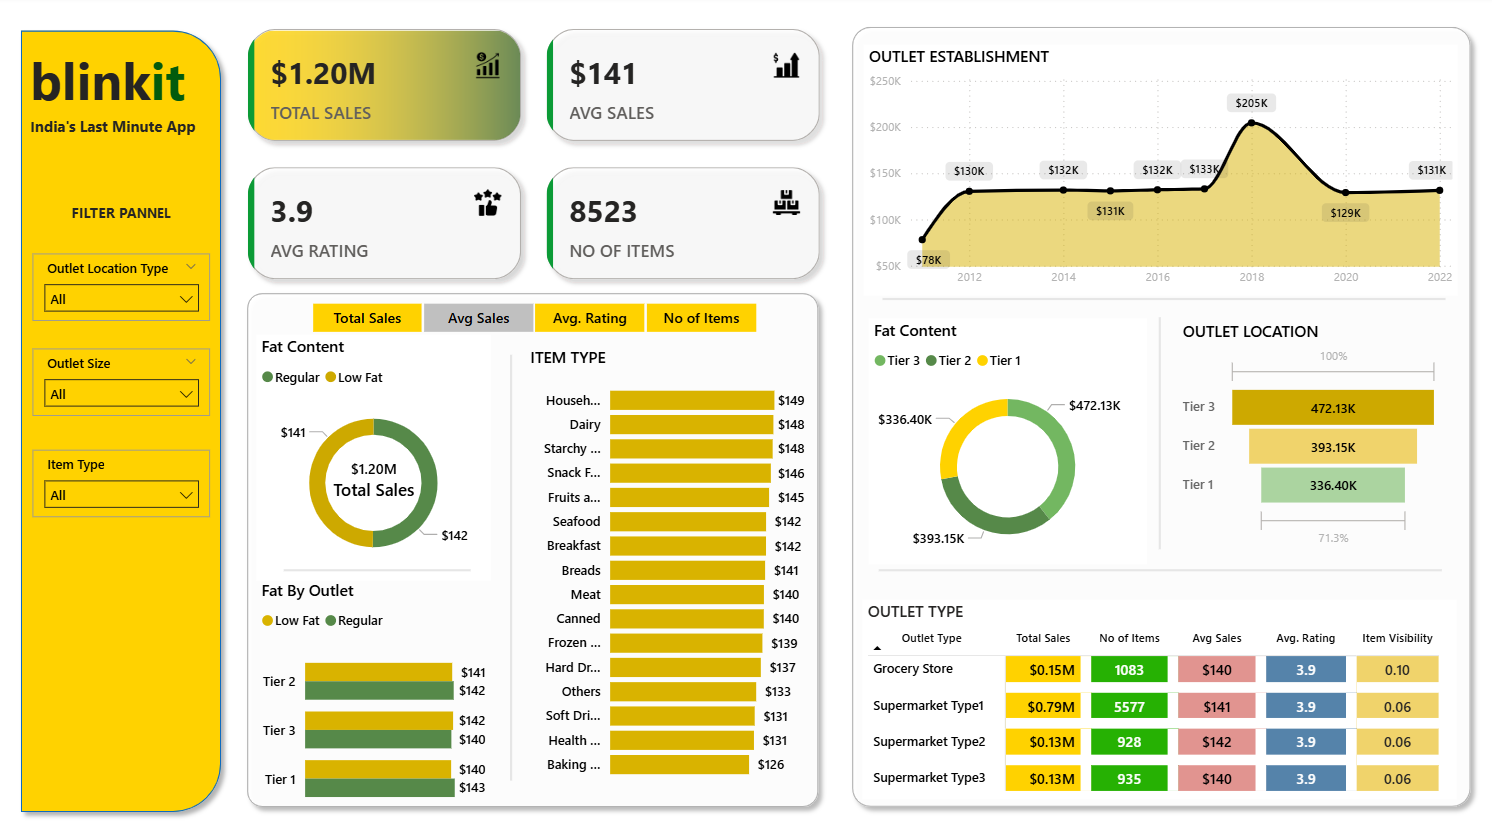

The dashboard page shown, as its layout file describes it:
{"tool":"powerbi","page":{"name":"Dashboard","canvas":[1400,800],"ordinal":0},"visuals":[{"type":"shape","box":[10.5,24,205.6,750.4],"z":0},{"type":"textbox","box":[24,40.5,162.1,100.6],"z":1000},{"type":"textbox","box":[24,108.1,177.1,33],"z":2000},{"type":"cardVisual","fields":{"Data":["BlinkIT Grocery Data.Total Sales","BlinkIT Grocery Data.Avg Sales","BlinkIT Grocery Data.Avg. Rating","BlinkIT Grocery Data.No of Items"]},"box":[216,14.1,570.3,269.6],"z":3000},{"type":"shape","box":[223,269.6,553.3,499.7],"z":4000},{"type":"donutChart","title":"Fat Content","fields":{"Y":["BlinkIT Grocery Data.Avg Sales"],"Category":["BlinkIT Grocery Data.Item Fat Content"]},"box":[240.4,318,220,230.2],"z":5000},{"type":"slicer","fields":{"Values":["Metrics.Metrics"]},"box":[267.1,281.1,465.5,40.7],"z":6000},{"type":"cardVisual","fields":{"Data":["BlinkIT Grocery Data.Total Sales"]},"box":[292.5,417.2,115.7,59.8],"z":7000},{"type":"clusteredBarChart","title":"Fat By Outlet","fields":{"Y":["BlinkIT Grocery Data.Avg Sales"],"Category":["BlinkIT Grocery Data.Outlet Location Type"],"Series":["BlinkIT Grocery Data.Item Fat Content"]},"box":[240.4,545.6,220,230.2],"z":8000},{"type":"shape","box":[265.8,525.3,175.5,26.7],"z":9000},{"type":"shape","box":[466.8,335.8,25.4,399.3],"z":10000},{"type":"barChart","title":"ITEM TYPE","fields":{"Y":["BlinkIT Grocery Data.Avg Sales"],"Category":["BlinkIT Grocery Data.Item Type"]},"box":[492.2,328.1,267.1,415.9],"z":11000},{"type":"shape","box":[789.8,20.3,597.7,749.1],"z":12000},{"type":"lineChart","title":"OUTLET ESTABLISHMENT","fields":{"Y":["BlinkIT Grocery Data.Total Sales"],"Category":["BlinkIT Grocery Data.Outlet Establishment Year"]},"box":[810.1,45.8,557.1,235.3],"z":13000},{"type":"donutChart","title":"Fat Content","fields":{"Y":["BlinkIT Grocery Data.Total Sales"],"Category":["BlinkIT Grocery Data.Outlet Location Type"]},"box":[814,302.7,260.7,230.2],"z":14000},{"type":"shape","box":[826.7,270.9,527.8,26.7],"z":15000},{"type":"funnel","title":"OUTLET LOCATION","fields":{"Y":["Sum(BlinkIT Grocery Data.Sales)"],"Category":["BlinkIT Grocery Data.Outlet Location Type"]},"box":[1103.9,304,250.5,217.5],"z":16000},{"type":"pivotTable","title":"OUTLET TYPE","fields":{"Rows":["BlinkIT Grocery Data.Outlet Type"],"Values":["BlinkIT Grocery Data.Total Sales","BlinkIT Grocery Data.No of Items","BlinkIT Grocery Data.Avg Sales","BlinkIT Grocery Data.Avg. Rating","Avg(BlinkIT Grocery Data.Item Visibility)"]},"box":[808.9,566,557.1,187],"z":17000},{"type":"shape","box":[824.1,525.3,527.8,26.7],"z":18000},{"type":"shape","box":[1074.7,301.4,25.4,217.5],"z":19000},{"type":"slicer","fields":{"Values":["BlinkIT Grocery Data.Outlet Location Type"]},"box":[30.5,241.6,166.6,63.6],"z":20000},{"type":"slicer","fields":{"Values":["BlinkIT Grocery Data.Outlet Size"]},"box":[30.5,330.7,166.6,63.6],"z":21000},{"type":"slicer","fields":{"Values":["BlinkIT Grocery Data.Item Type"]},"box":[30.5,424.8,166.6,63.6],"z":22000},{"type":"textbox","box":[49.6,188.2,128.5,33.1],"z":23000}]}

Visuals, with their boxes in screenshot pixels (x1, y1, x2, y2), scaled from the page's 1400x800 canvas onto the 1492x832 screenshot:
shape: <region>11, 25, 230, 805</region>
textbox: <region>26, 42, 198, 147</region>
textbox: <region>26, 112, 214, 147</region>
cardVisual - BlinkIT Grocery Data.Total Sales x BlinkIT Grocery Data.Avg Sales: <region>230, 15, 838, 295</region>
shape: <region>238, 280, 827, 800</region>
"Fat Content" donutChart: <region>256, 331, 491, 570</region>
slicer - Metrics.Metrics: <region>285, 292, 781, 335</region>
cardVisual - BlinkIT Grocery Data.Total Sales: <region>312, 434, 435, 496</region>
"Fat By Outlet" clusteredBarChart: <region>256, 567, 491, 807</region>
shape: <region>283, 546, 470, 574</region>
shape: <region>497, 349, 525, 765</region>
"ITEM TYPE" barChart: <region>525, 341, 809, 774</region>
shape: <region>842, 21, 1479, 800</region>
"OUTLET ESTABLISHMENT" lineChart: <region>863, 48, 1457, 292</region>
"Fat Content" donutChart: <region>867, 315, 1145, 554</region>
shape: <region>881, 282, 1444, 310</region>
"OUTLET LOCATION" funnel: <region>1176, 316, 1443, 542</region>
"OUTLET TYPE" pivotTable: <region>862, 589, 1456, 783</region>
shape: <region>878, 546, 1441, 574</region>
shape: <region>1145, 313, 1172, 540</region>
slicer - BlinkIT Grocery Data.Outlet Location Type: <region>33, 251, 210, 317</region>
slicer - BlinkIT Grocery Data.Outlet Size: <region>33, 344, 210, 410</region>
slicer - BlinkIT Grocery Data.Item Type: <region>33, 442, 210, 508</region>
textbox: <region>53, 196, 190, 230</region>
